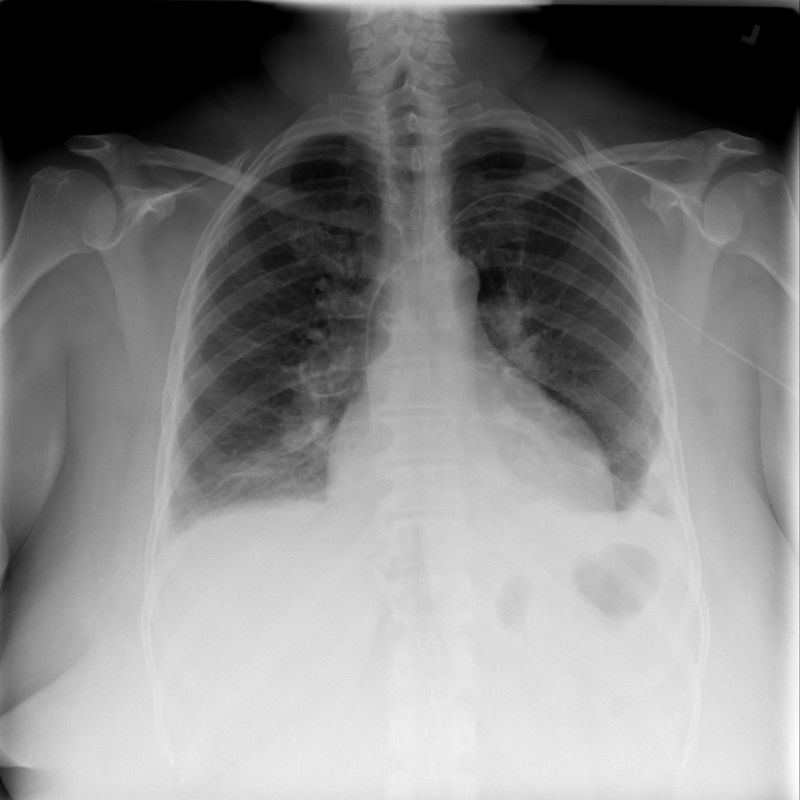PLEURAL EFFUSION: (622, 434, 686, 584)
